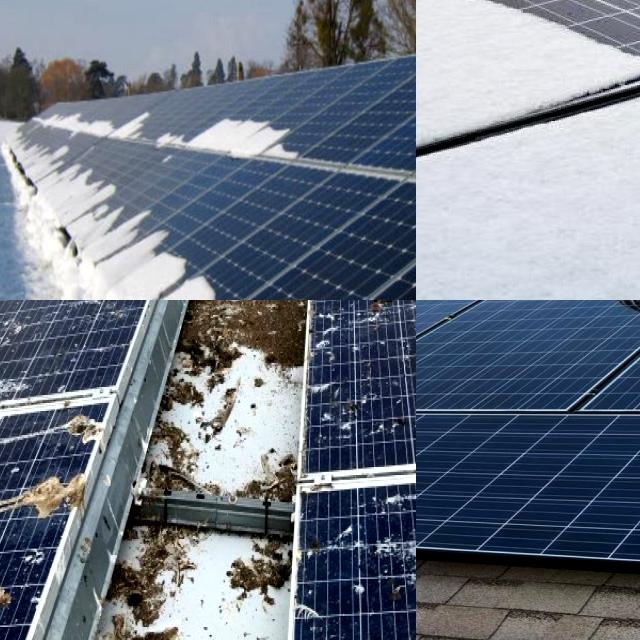bird: (0, 465, 94, 523), (316, 398, 401, 443), (30, 412, 112, 452), (48, 300, 123, 327), (0, 362, 47, 404), (361, 300, 413, 327), (340, 300, 393, 323), (14, 300, 49, 334), (0, 572, 22, 623), (0, 566, 15, 640), (354, 300, 397, 321), (345, 574, 363, 602), (90, 300, 114, 318), (153, 300, 176, 317), (0, 300, 15, 320)
crack: (416, 378, 640, 640), (416, 300, 640, 446), (416, 300, 599, 439), (590, 300, 640, 531)
panel: (416, 102, 599, 172), (475, 0, 640, 66), (547, 12, 640, 116), (26, 189, 106, 300), (117, 208, 189, 300), (487, 0, 640, 41), (200, 110, 299, 170), (423, 0, 571, 35), (197, 261, 282, 300), (416, 0, 506, 33), (65, 151, 111, 212), (416, 0, 472, 46), (2, 126, 50, 178), (503, 0, 640, 18), (416, 0, 477, 39), (102, 110, 154, 146), (150, 118, 199, 154), (48, 106, 97, 136), (416, 0, 453, 22)
